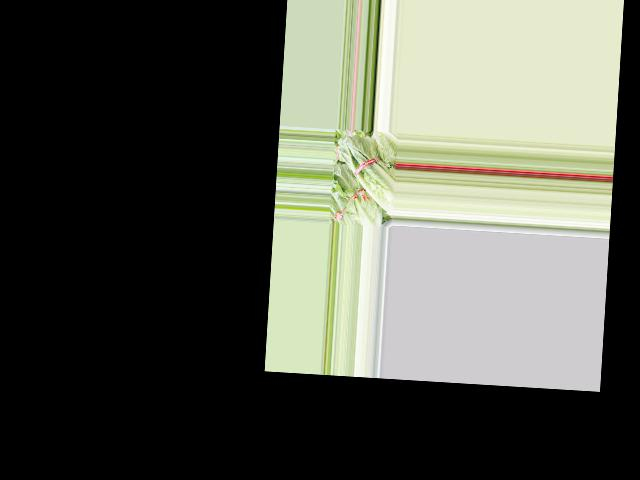lettuce: (333, 133, 398, 214)
